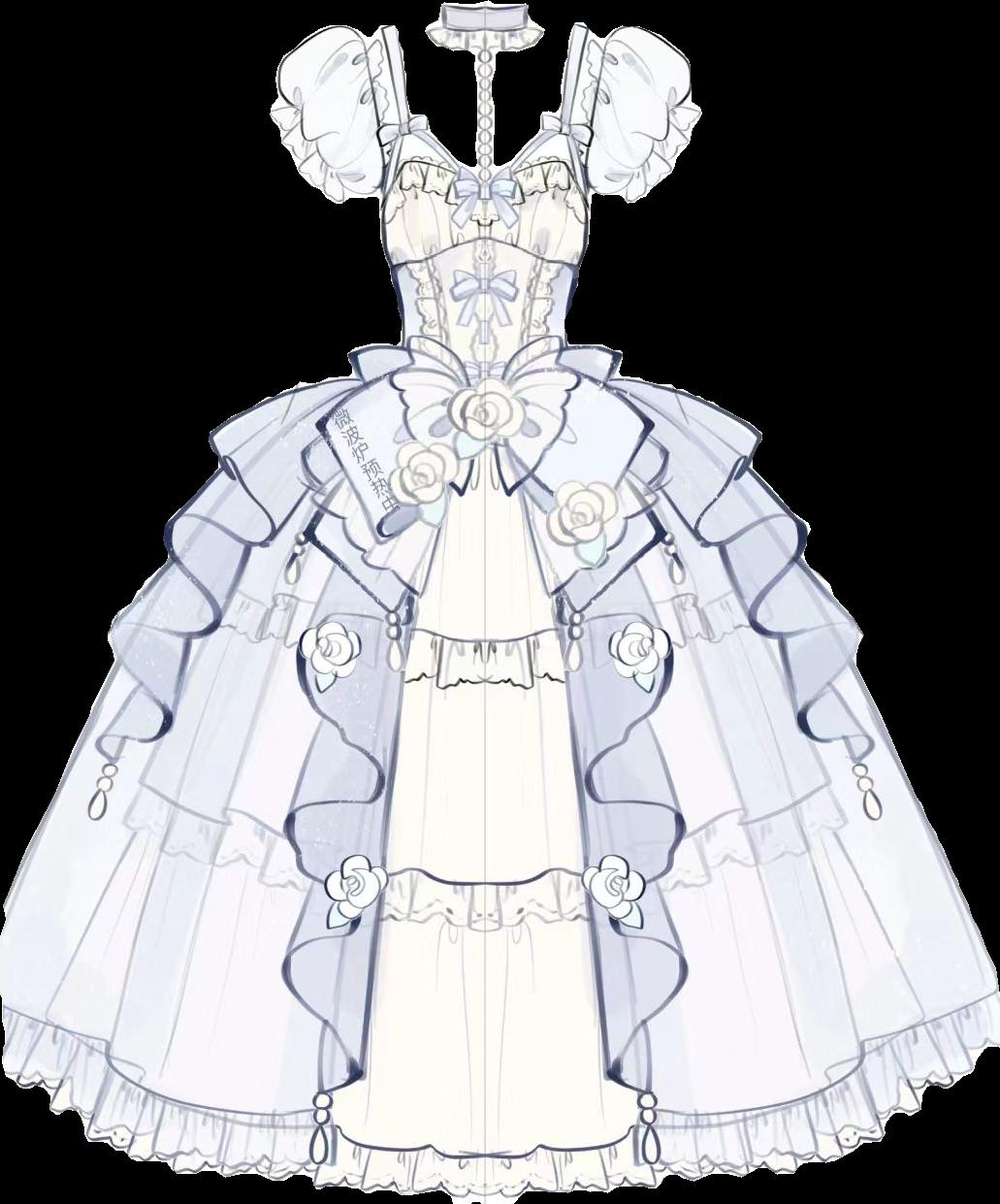Bodice: (331, 22, 608, 399)
Hemline: (495, 396, 999, 1116), (0, 389, 486, 1110), (0, 1039, 999, 1203), (318, 1102, 657, 1162), (388, 863, 586, 894), (414, 617, 560, 650)
Neckline: (382, 22, 588, 184), (372, 157, 593, 213), (390, 231, 584, 277)
Skirt: (0, 343, 999, 1203)
Sleeve: (593, 25, 701, 203), (270, 25, 377, 203)
Sleeveline: (585, 28, 616, 194), (358, 34, 383, 206)
Waistline: (397, 337, 572, 403)
